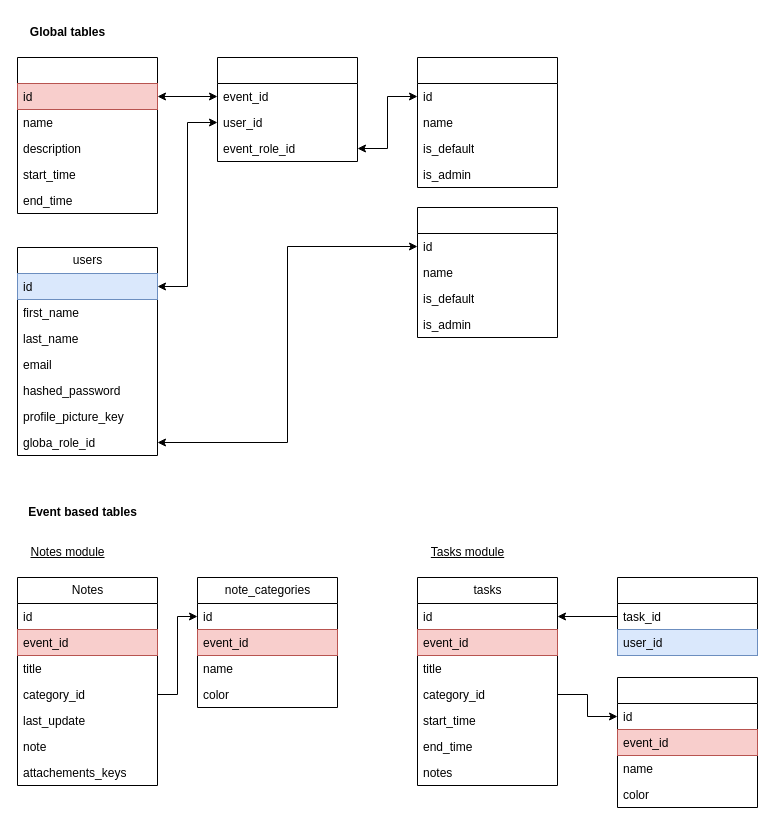
This 775x827 diagram has some shape labels left out. Here are the shapes that lost their labels. From the top down, the box of each, then its label:
(216, 56, 358, 162): events_users_roles
(416, 56, 558, 188): event_roles
(16, 56, 158, 214): Events
(416, 206, 558, 338): global_roles
(616, 576, 758, 656): assign_taks
(616, 676, 758, 808): task_categories
